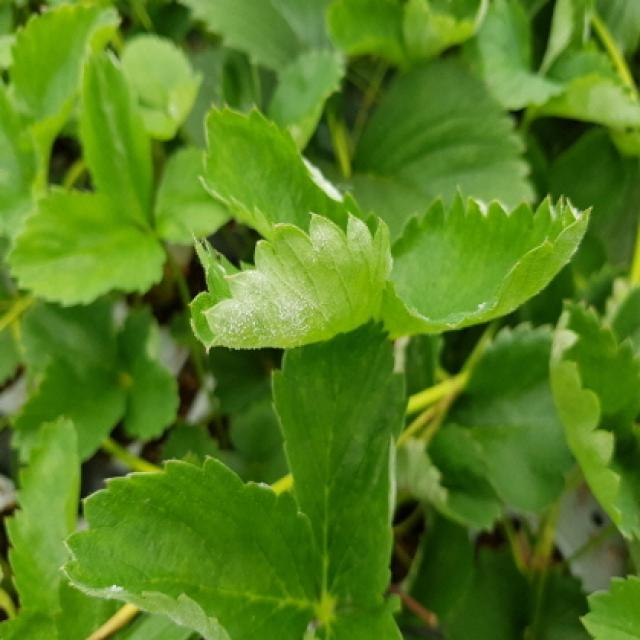powdery_mildew_leaf: (60, 455, 325, 638), (382, 185, 595, 341), (187, 211, 393, 355), (199, 103, 365, 240)
